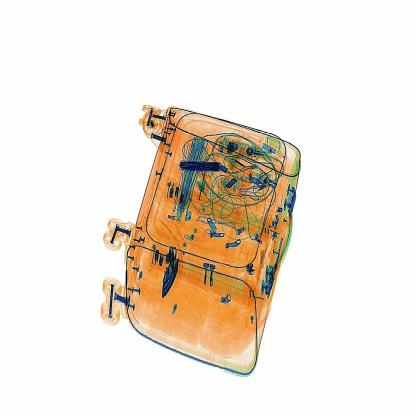scissors: (172, 151, 231, 186)
